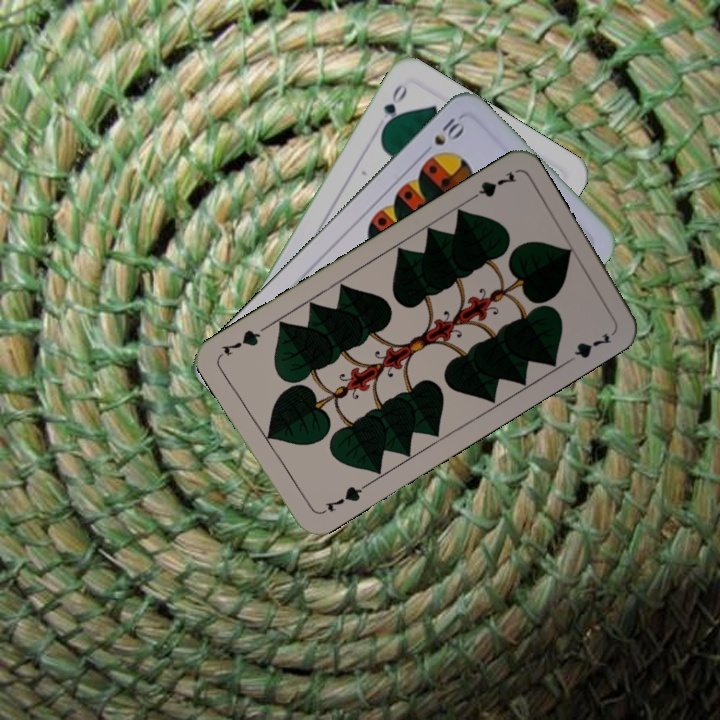G7: (464, 167, 519, 205), (316, 480, 369, 517)
GO: (377, 80, 410, 135)
S10: (418, 113, 467, 158)
